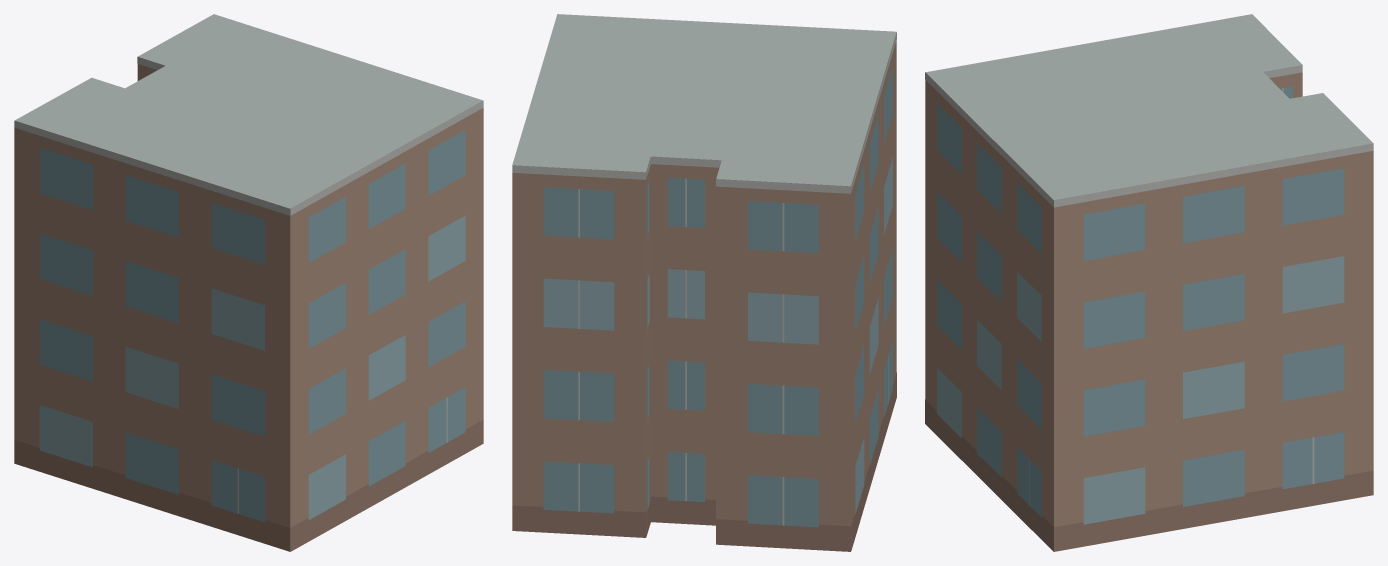
Rendered from survey-upis-32678153.glb.
The picture shows the model from 3 angles, left to right: view 1: azimuth 30°, elevation 25°; view 2: azimuth 150°, elevation 25°; view 3: azimuth 270°, elevation 25°; orthographic projection. The views are drawn at different scales.
Visible parts, largest first — view 1: survey-upis-32678153.tmp; view 2: survey-upis-32678153.tmp; view 3: survey-upis-32678153.tmp.
Boxes of the visible parts, x1,y1,x2,y2 form: survey-upis-32678153.tmp: (14,14,483,551); survey-upis-32678153.tmp: (512,14,896,551); survey-upis-32678153.tmp: (925,14,1373,551).
Bounding box in the file's own units: 13.41 × 11.8 × 13.65.
